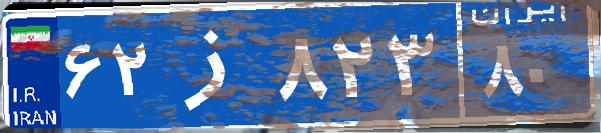0: (525, 38, 570, 115)
2: (330, 28, 385, 110), (110, 28, 158, 105)
3: (385, 28, 445, 110)
6: (57, 26, 110, 107)
8: (273, 28, 330, 110), (475, 38, 525, 113)
ز: (158, 15, 273, 115)
